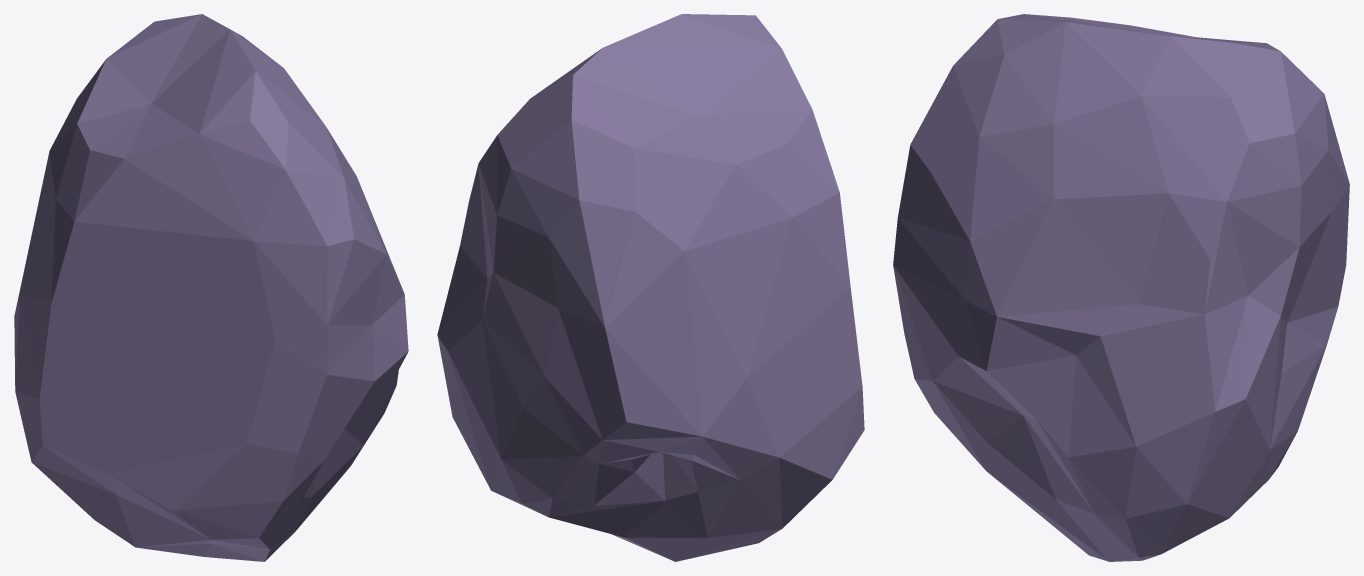
File: Stoun1.fbx
3 renders of one model, left to right at view 1: azimuth 30°, elevation 25°; view 2: azimuth 150°, elevation 25°; view 3: azimuth 270°, elevation 25°, orthographic. The views are drawn at different scales.
Visible parts, largest first — view 1: Stoun1; view 2: Stoun1; view 3: Stoun1.
Part boxes in pixels (bbox=[...]): Stoun1: bbox=[14, 14, 408, 561]; Stoun1: bbox=[437, 14, 864, 561]; Stoun1: bbox=[893, 14, 1349, 561].
Bounding box in the file's own units: 297 × 398 × 315.
